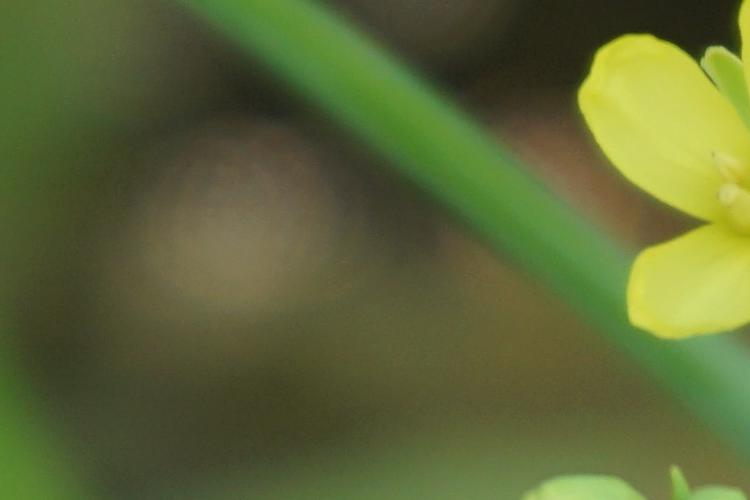yellow: (578, 7, 750, 339)
